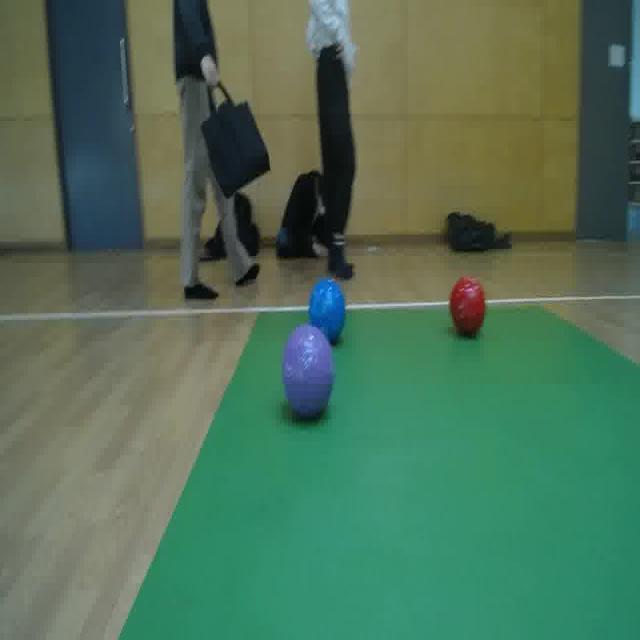blue_ball: (309, 268, 345, 356)
purple_ball: (280, 325, 341, 418)
red_ball: (442, 259, 492, 342)
